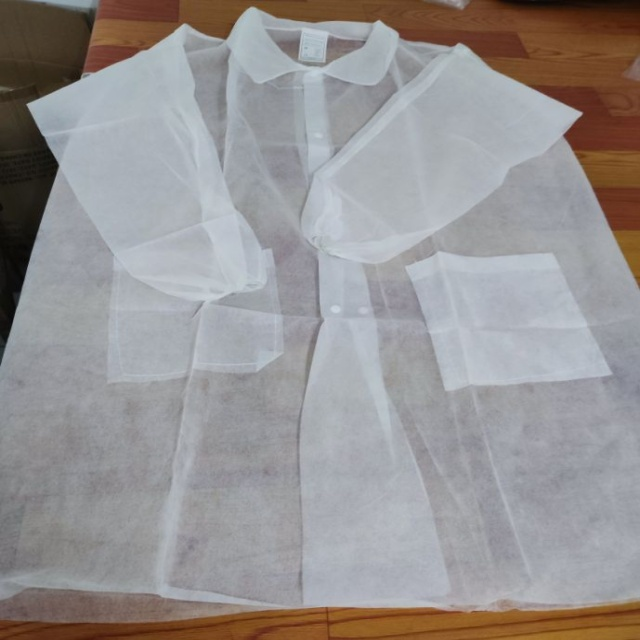Coat: (24, 20, 629, 609)
